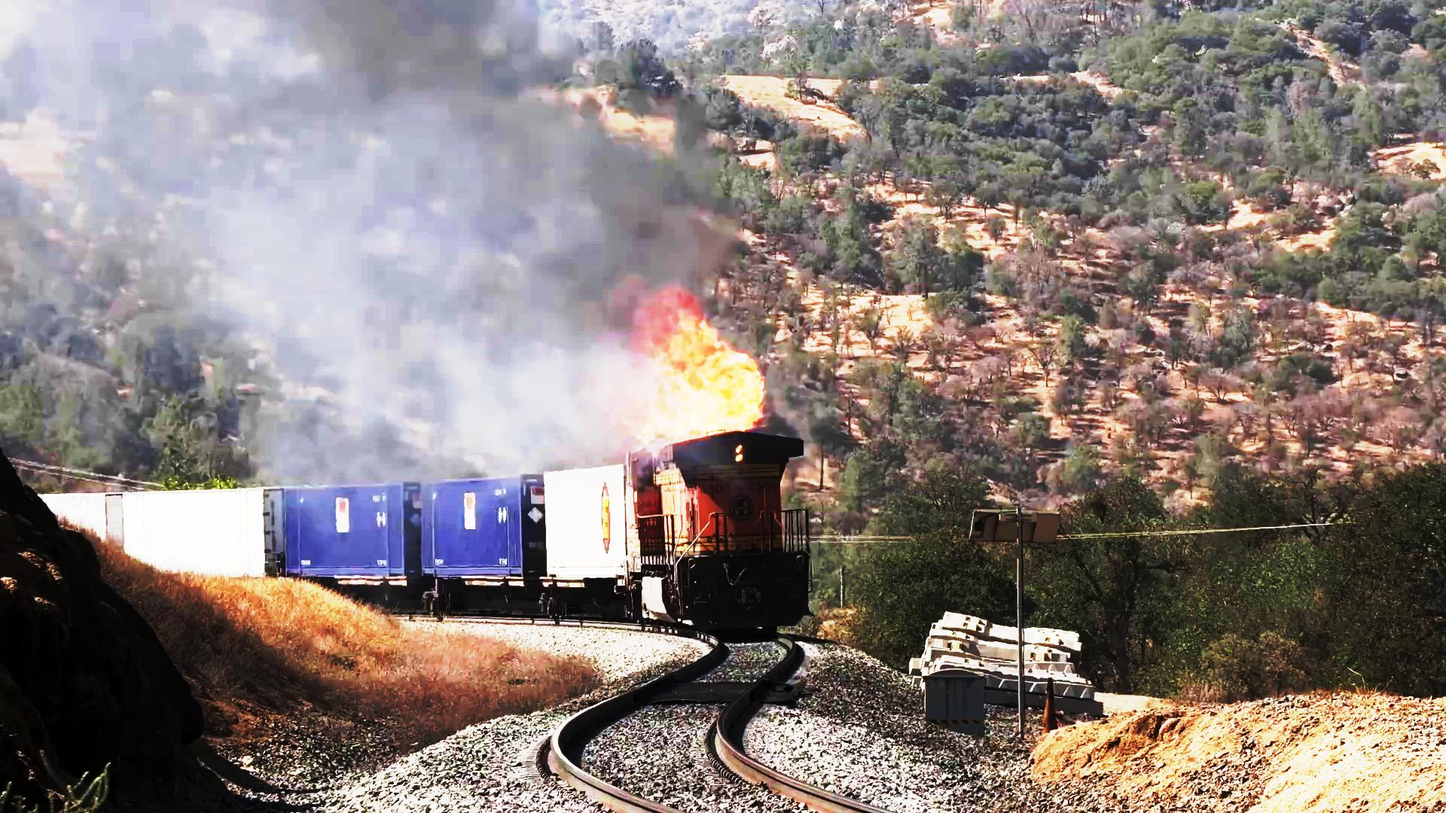fire: (637, 292, 761, 444)
smoke: (283, 98, 576, 356)
